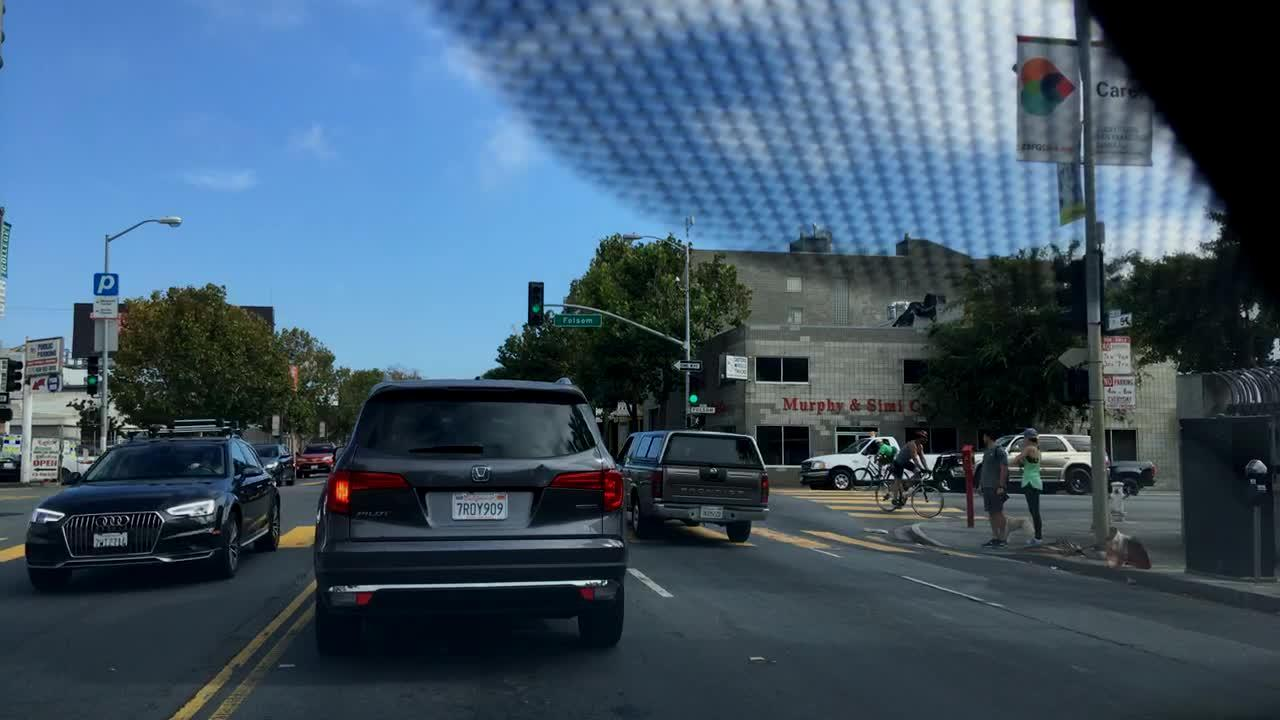Audi: (90, 512, 133, 531)
Honda: (468, 460, 498, 485)
Renault: (705, 465, 722, 482)
